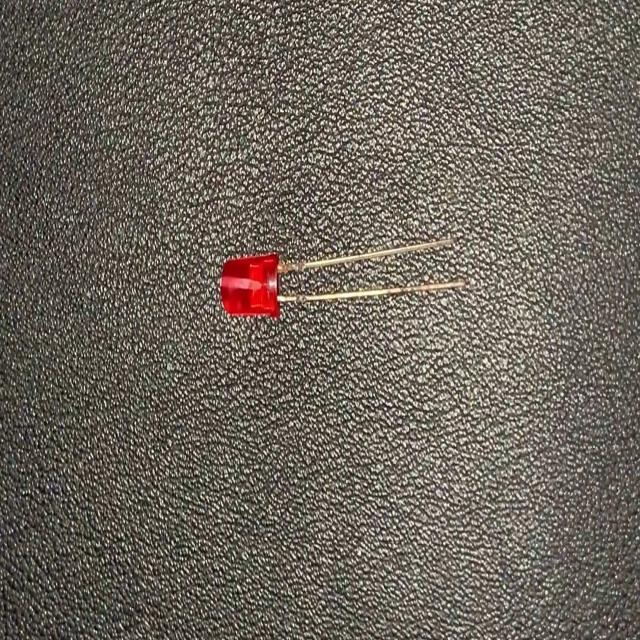LED: (215, 237, 468, 317)
